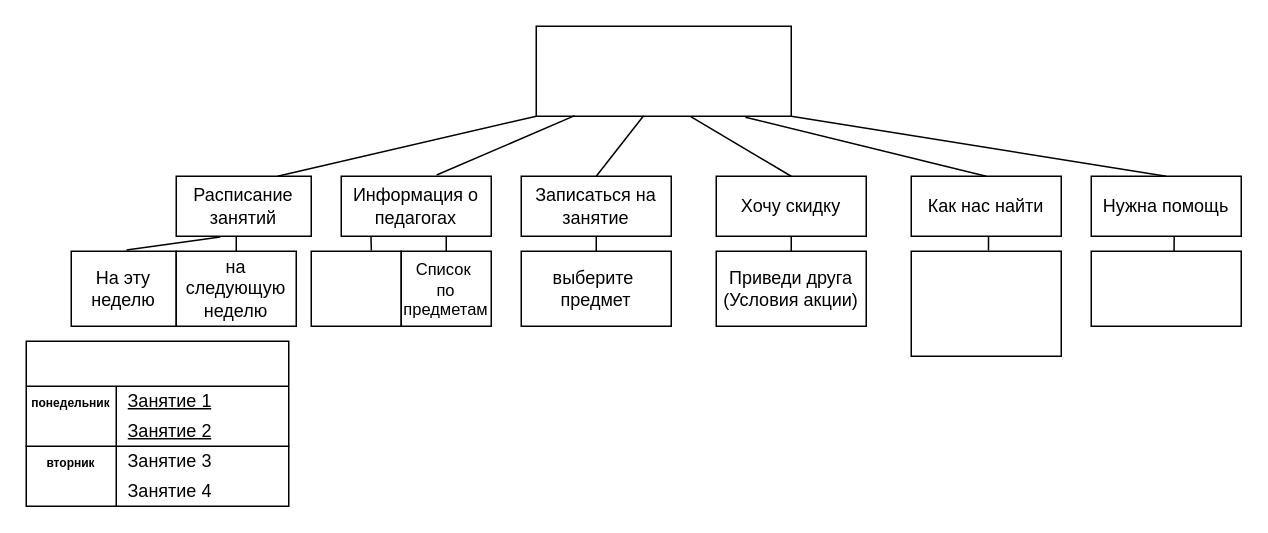
Some shapes in this 1268 by 533 pixel diagram are drawn without their labels. Each missing label, with the box of its shape:
Адрес: г. Москва, Красная площадь, 1: (910, 250, 1061, 356)
Даты недели от- до: (25, 340, 289, 506)
Опишите проблему: (1090, 250, 1241, 326)
Привет! Меня зовут, Наталья! Чем я могу тебе помочь?: (535, 25, 791, 116)
Список педагогов: (310, 250, 401, 326)
